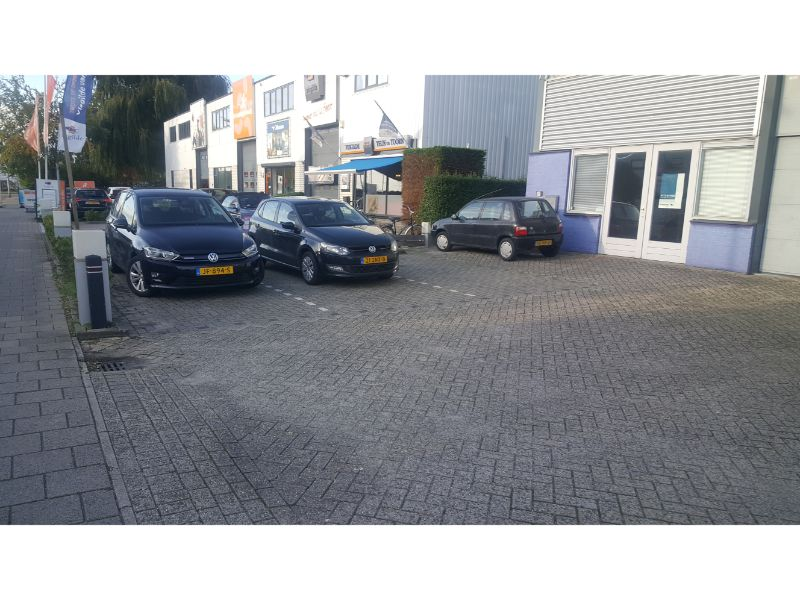kenteken: (197, 262, 234, 277), (360, 254, 388, 265), (533, 237, 554, 247)
